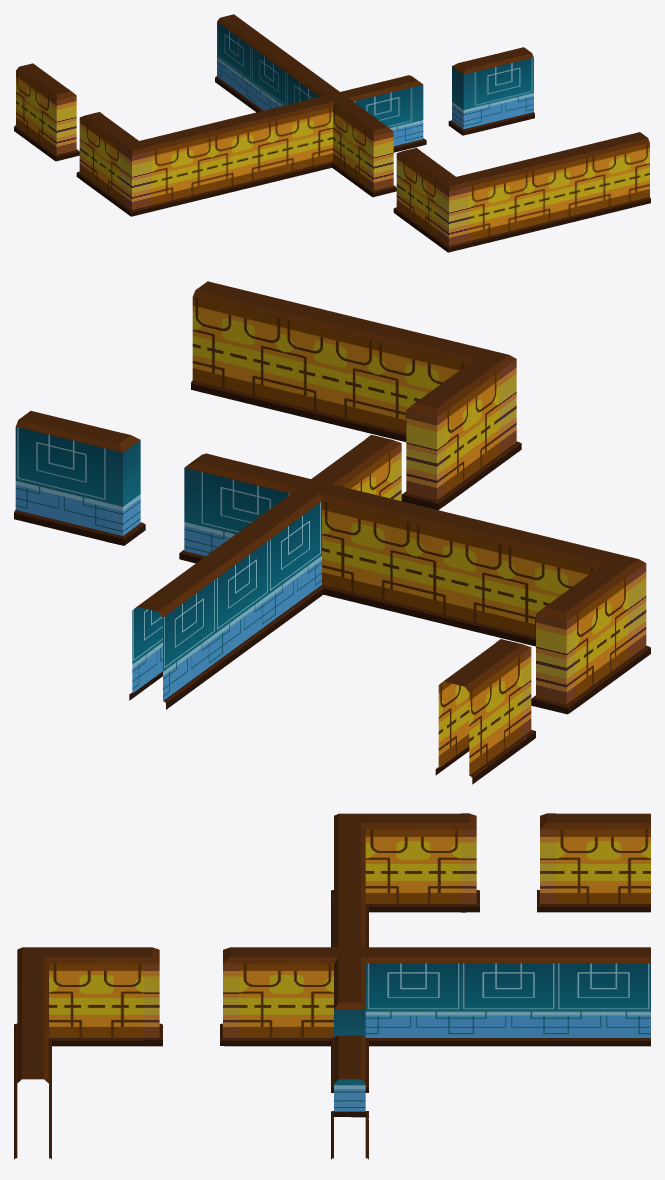
File: Wall_Living_Kitchen_Living_v1.fbx
3 renders of one model, top to bottom at view 1: azimuth 30°, elevation 25°; view 2: azimuth 150°, elevation 25°; view 3: azimuth 270°, elevation 25°, orthographic. The views are drawn at different scales.
Parts seen in each view (by area): view 1: Living_Kitchen_Living; view 2: Living_Kitchen_Living; view 3: Living_Kitchen_Living.
Boxes of the visible parts, left/top/right/bottom form: Living_Kitchen_Living: left=14, top=14, right=650, bottom=252; Living_Kitchen_Living: left=14, top=281, right=650, bottom=784; Living_Kitchen_Living: left=14, top=813, right=650, bottom=1159.
Bounding box in the file's own units: 2010 × 300 × 2010.
